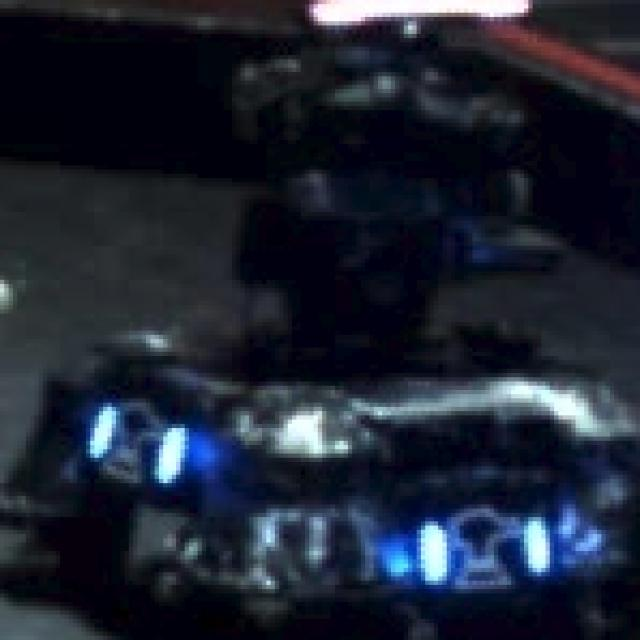Bs: (412, 500, 550, 589), (86, 402, 197, 488)
